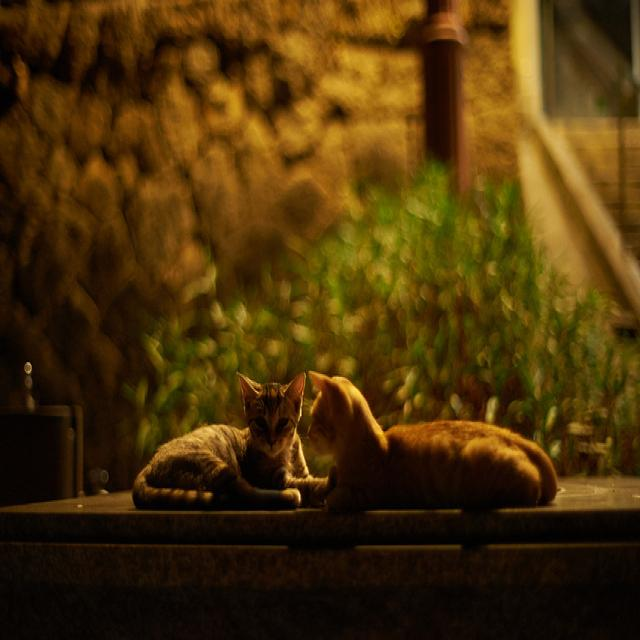Cat: (317, 361, 542, 534), (114, 350, 308, 529)
